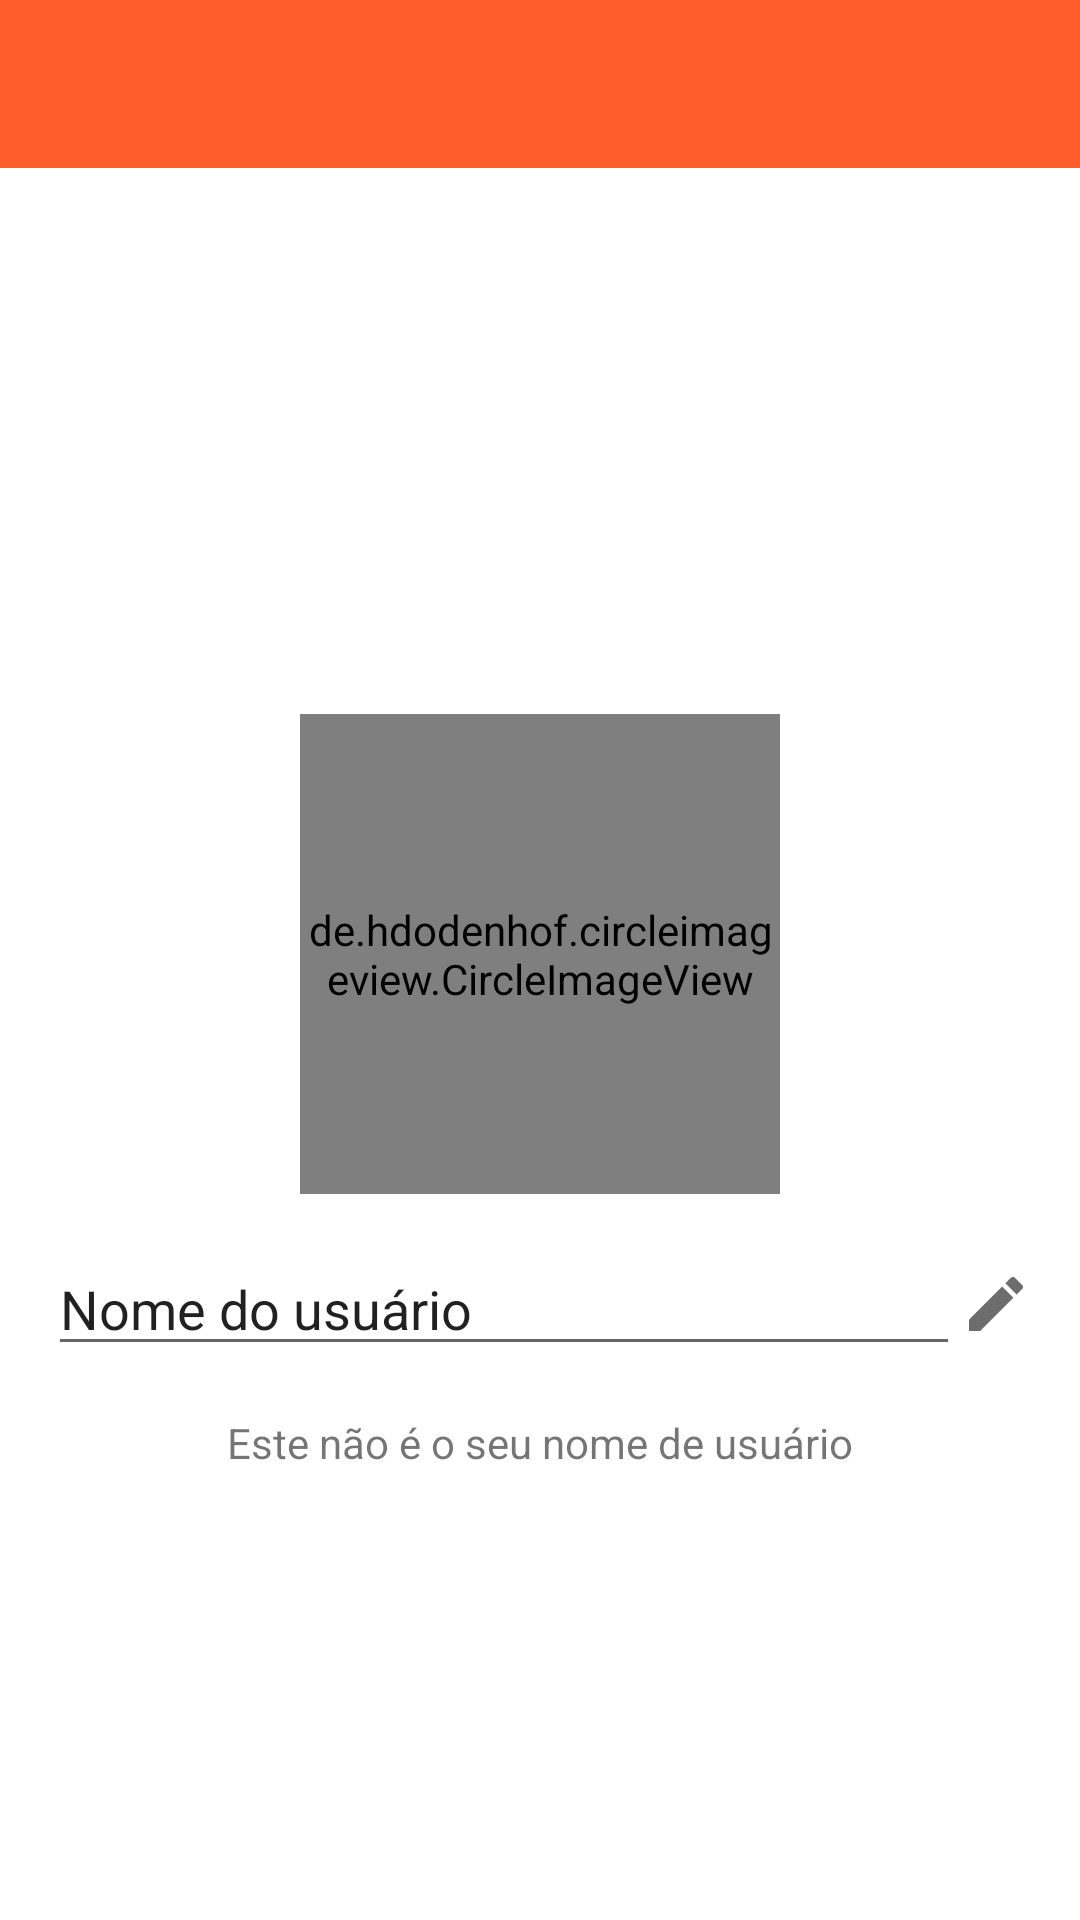

Named icons in this screenshot (1080 x 1920) and their bounding boxes, (x1, y1, x2, y2):
editar laranja: (969, 1277, 1023, 1331)
